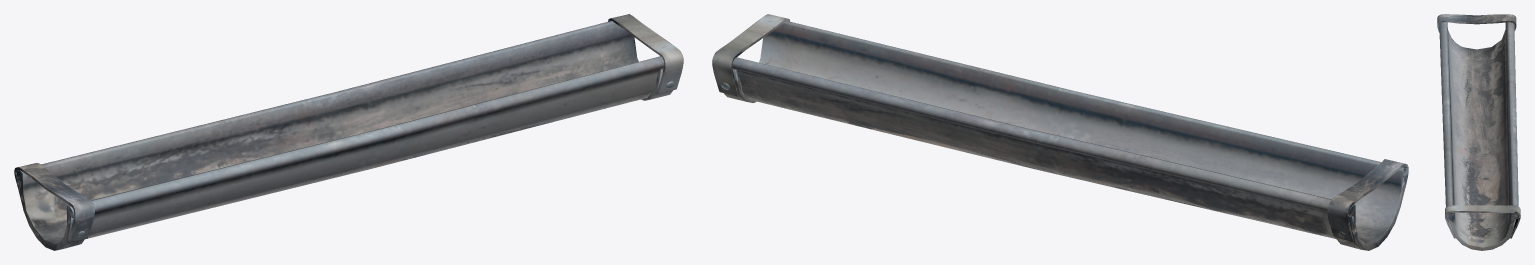
The model's file is sm_Pipe_02_04.fbx.
3 views of the same model, side by side, from view 1: azimuth 30°, elevation 25°; view 2: azimuth 150°, elevation 25°; view 3: azimuth 270°, elevation 25° (orthographic). The views are drawn at different scales.
Visible parts, largest first — view 1: sm_Pipe_02_04_LOD0; view 2: sm_Pipe_02_04_LOD0; view 3: sm_Pipe_02_04_LOD0.
Boxes of the visible parts, x1,y1,x2,y2 form: sm_Pipe_02_04_LOD0: (14, 14, 683, 250); sm_Pipe_02_04_LOD0: (712, 14, 1408, 250); sm_Pipe_02_04_LOD0: (1437, 14, 1520, 250).
Size of the model in its own units: 16.51 by 92.58 by 8.96.
